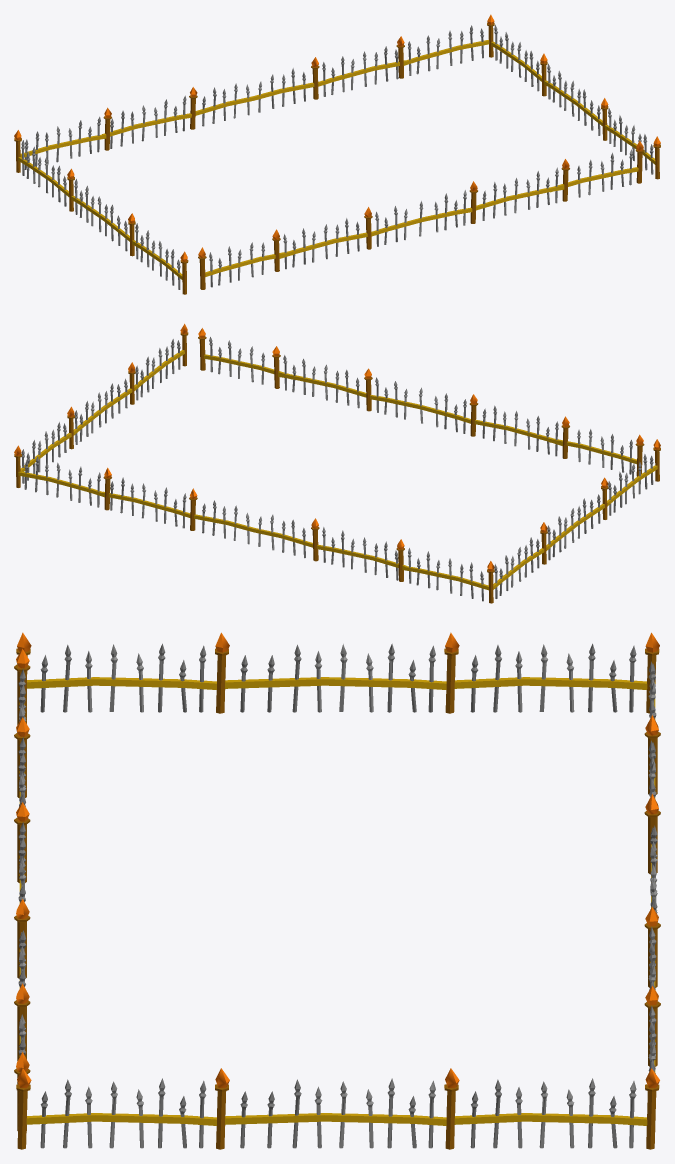
The model's file is obj_fence.gltf.
The picture shows the model from 3 angles, top to bottom: view 1: azimuth 30°, elevation 25°; view 2: azimuth 150°, elevation 25°; view 3: azimuth 270°, elevation 25°; orthographic projection. The views are drawn at different scales.
Parts seen in each view (by area): view 1: obj_fence; view 2: obj_fence; view 3: obj_fence.
Boxes of the visible parts, left/top/right/bottom form: obj_fence: left=14, top=14, right=660, bottom=294; obj_fence: left=14, top=323, right=660, bottom=603; obj_fence: left=14, top=632, right=660, bottom=1149.
Size of what is drawn, in the model's own units: 15.88 by 1.33 by 9.81.
Materials: 1 (1 with a texture image).
